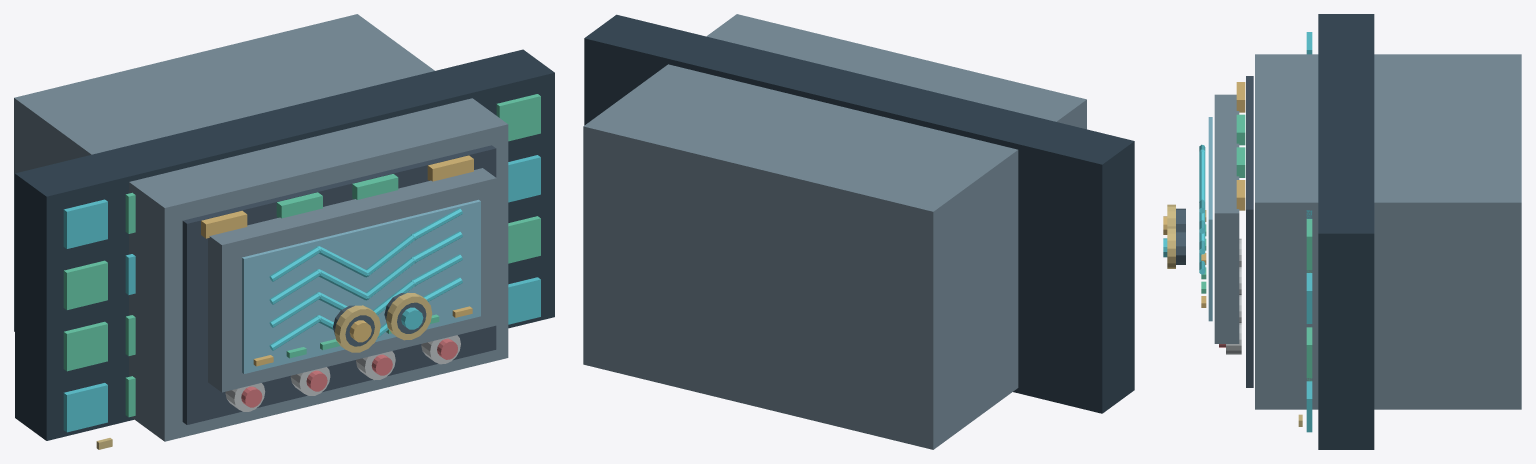
File: 21_L81_DoubleBitErrorAlarmAnalyzer.glb
3 renders of one model, left to right at view 1: azimuth 30°, elevation 25°; view 2: azimuth 150°, elevation 25°; view 3: azimuth 270°, elevation 25°, orthographic. The views are drawn at different scales.
Visible parts, largest first — view 1: DoubleBitErrorAlarmAnalyzer_Node_0000, DoubleBitErrorAlarmAnalyzer_Node_0051, DoubleBitErrorAlarmAnalyzer_Node_0007, DoubleBitErrorAlarmAnalyzer_Node_0006, DoubleBitErrorAlarmAnalyzer_Node_0001, DoubleBitErrorAlarmAnalyzer_Node_0076, DoubleBitErrorAlarmAnalyzer_Node_0052, DoubleBitErrorAlarmAnalyzer_Node_0060, DoubleBitErrorAlarmAnalyzer_Node_0068, DoubleBitErrorAlarmAnalyzer_Node_0083, DoubleBitErrorAlarmAnalyzer_Node_0067, DoubleBitErrorAlarmAnalyzer_Node_0059 (+7 smaller); view 2: DoubleBitErrorAlarmAnalyzer_Node_0000, DoubleBitErrorAlarmAnalyzer_Node_0051; view 3: DoubleBitErrorAlarmAnalyzer_Node_0000, DoubleBitErrorAlarmAnalyzer_Node_0051, DoubleBitErrorAlarmAnalyzer_Node_0006, DoubleBitErrorAlarmAnalyzer_Node_0001, DoubleBitErrorAlarmAnalyzer_Node_0007, DoubleBitErrorAlarmAnalyzer_Node_0094, DoubleBitErrorAlarmAnalyzer_Node_0059.
Boxes of the visible parts, box(x1,y1,x2,y2) form: DoubleBitErrorAlarmAnalyzer_Node_0000: box(14, 14, 508, 441); DoubleBitErrorAlarmAnalyzer_Node_0051: box(15, 49, 554, 440); DoubleBitErrorAlarmAnalyzer_Node_0007: box(242, 199, 480, 373); DoubleBitErrorAlarmAnalyzer_Node_0006: box(208, 168, 496, 392); DoubleBitErrorAlarmAnalyzer_Node_0001: box(182, 145, 496, 424); DoubleBitErrorAlarmAnalyzer_Node_0076: box(63, 199, 107, 248); DoubleBitErrorAlarmAnalyzer_Node_0052: box(63, 383, 107, 432); DoubleBitErrorAlarmAnalyzer_Node_0060: box(63, 321, 107, 371); DoubleBitErrorAlarmAnalyzer_Node_0068: box(63, 260, 107, 309); DoubleBitErrorAlarmAnalyzer_Node_0083: box(496, 94, 540, 141); DoubleBitErrorAlarmAnalyzer_Node_0067: box(508, 216, 540, 263); DoubleBitErrorAlarmAnalyzer_Node_0059: box(508, 277, 540, 324); DoubleBitErrorAlarmAnalyzer_Node_0000: box(583, 14, 1086, 449); DoubleBitErrorAlarmAnalyzer_Node_0051: box(584, 14, 1134, 413); DoubleBitErrorAlarmAnalyzer_Node_0000: box(1255, 54, 1521, 409); DoubleBitErrorAlarmAnalyzer_Node_0051: box(1318, 14, 1374, 449); DoubleBitErrorAlarmAnalyzer_Node_0006: box(1214, 94, 1239, 343); DoubleBitErrorAlarmAnalyzer_Node_0001: box(1246, 76, 1253, 387); DoubleBitErrorAlarmAnalyzer_Node_0007: box(1208, 117, 1212, 321); DoubleBitErrorAlarmAnalyzer_Node_0094: box(1167, 227, 1175, 268); DoubleBitErrorAlarmAnalyzer_Node_0059: box(1306, 381, 1312, 432).
Bounding box in the file's own units: 1.48 × 0.71 × 1.02.
